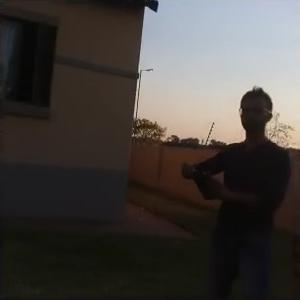follow: (176, 82, 295, 299)
